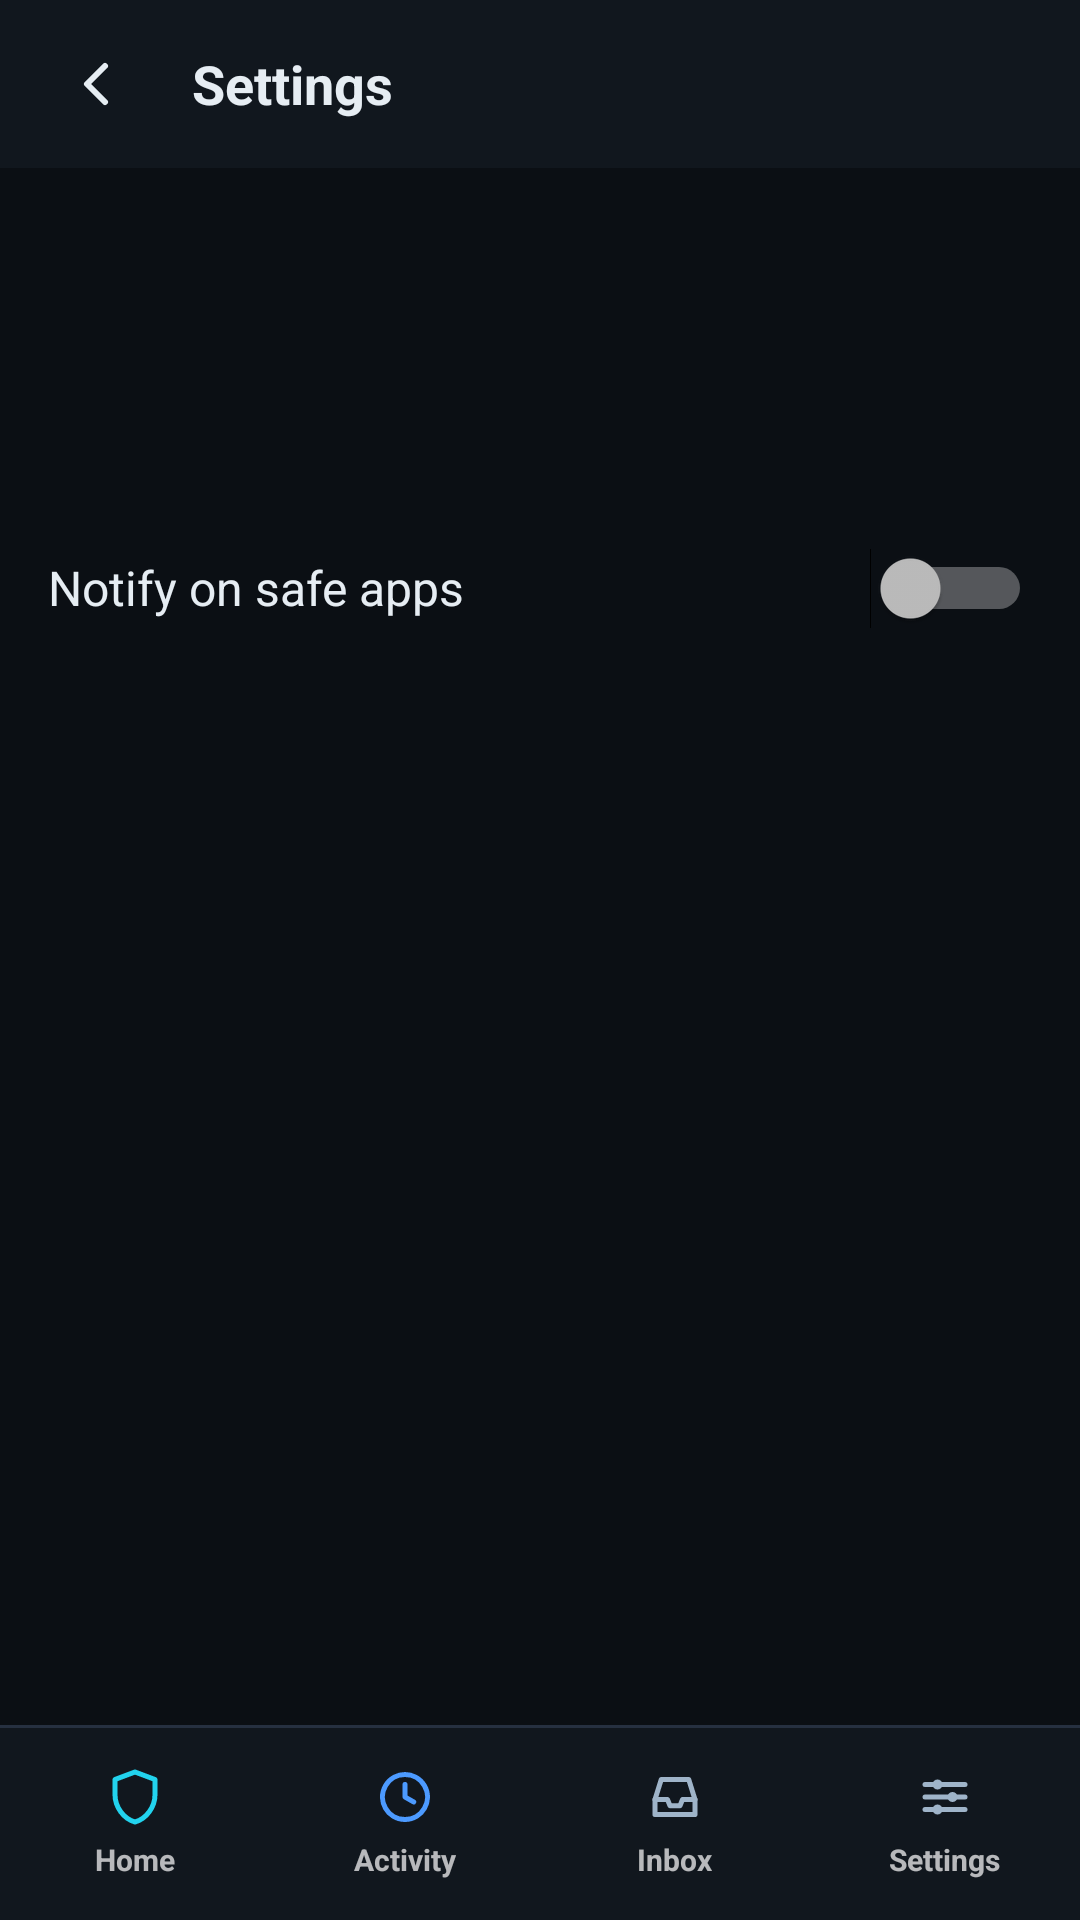

Screen size 1080w x 1920h. Icon name, then its box in pixels as (x1,y1,x2,y2):
clock: (380,1772,430,1822)
shield: (112,1769,158,1825)
